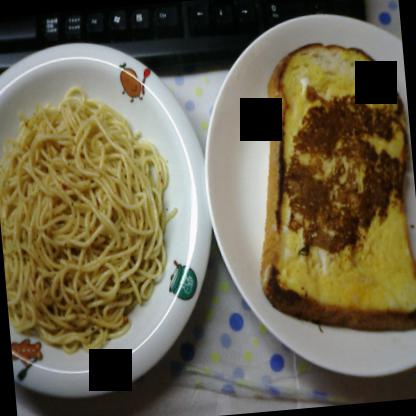pasta: (0, 76, 174, 354)
toast bread: (242, 32, 415, 342)
